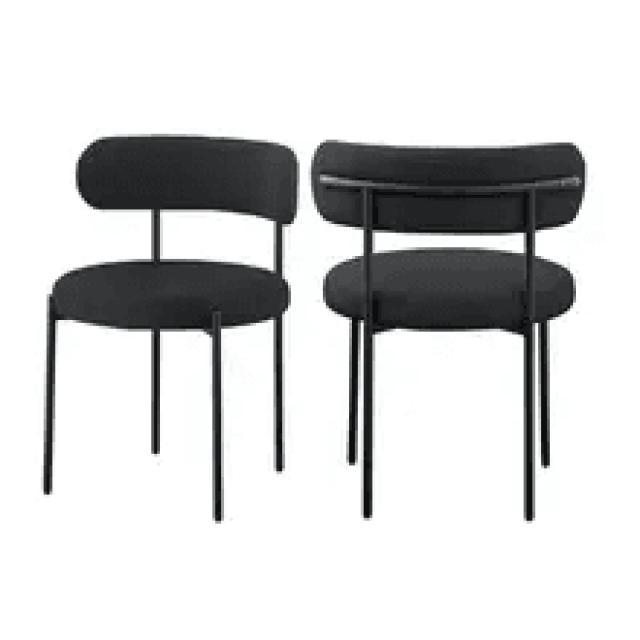chair: (310, 135, 590, 524), (37, 130, 305, 524), (314, 136, 588, 330), (56, 133, 296, 331)
